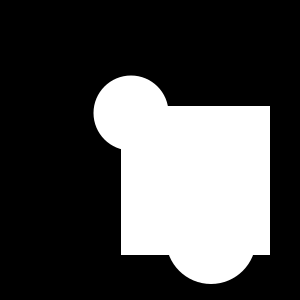circle: (121, 106, 270, 255)
rectangle: (166, 194, 256, 284), (94, 76, 168, 150)
